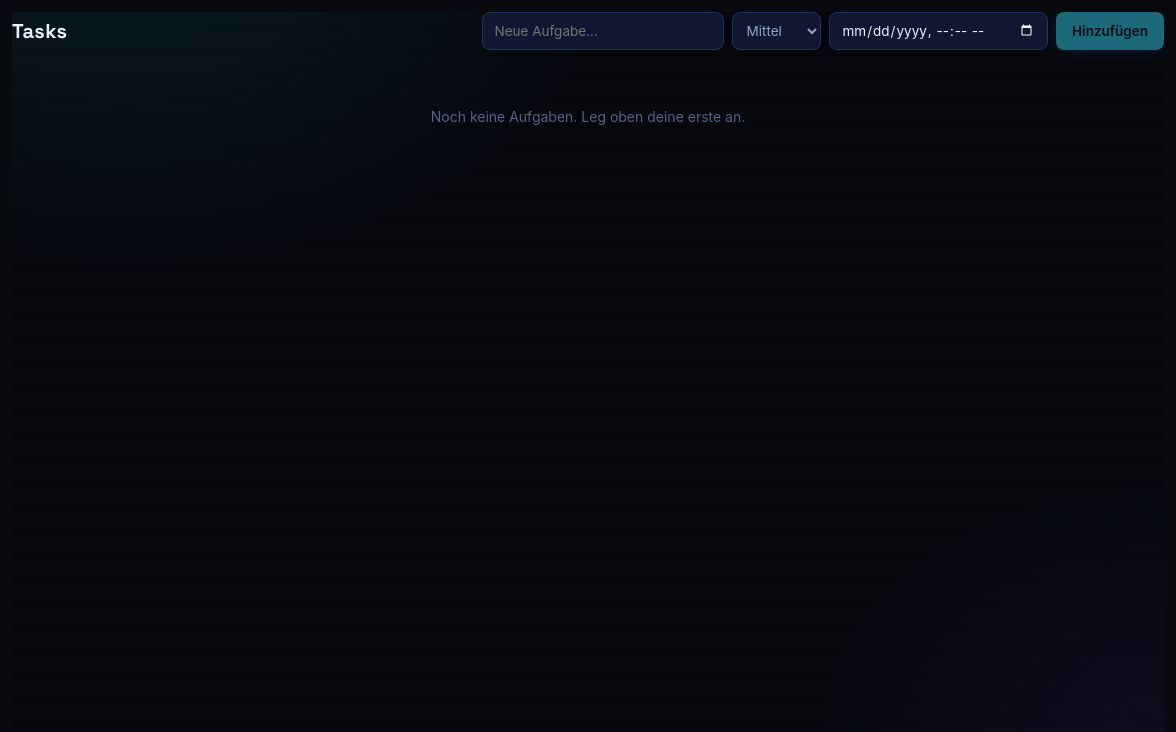
Test: TasksView › creates a new task
Type "Neue Aufgabe" into the field with placeholder "Neue Aufgabe..." at x=602, y=31, box [482,12,724,50]
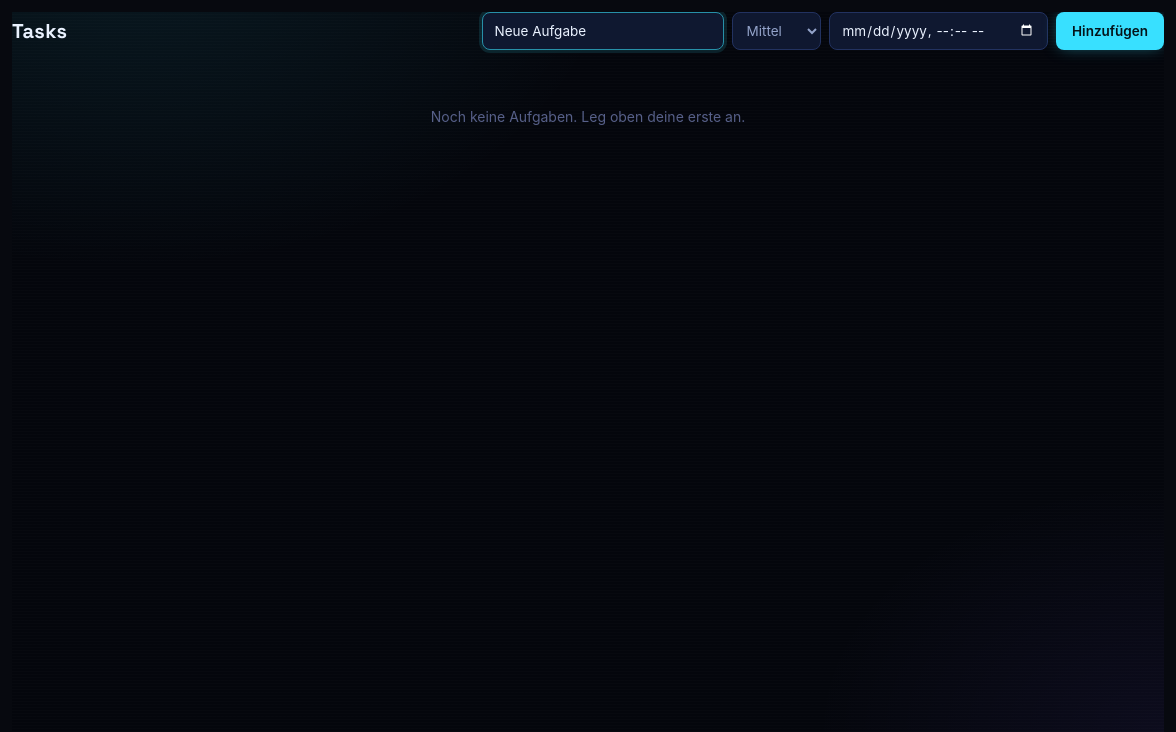
Click the button "Hinzufügen" at x=1110, y=31, box [1056,12,1164,50]
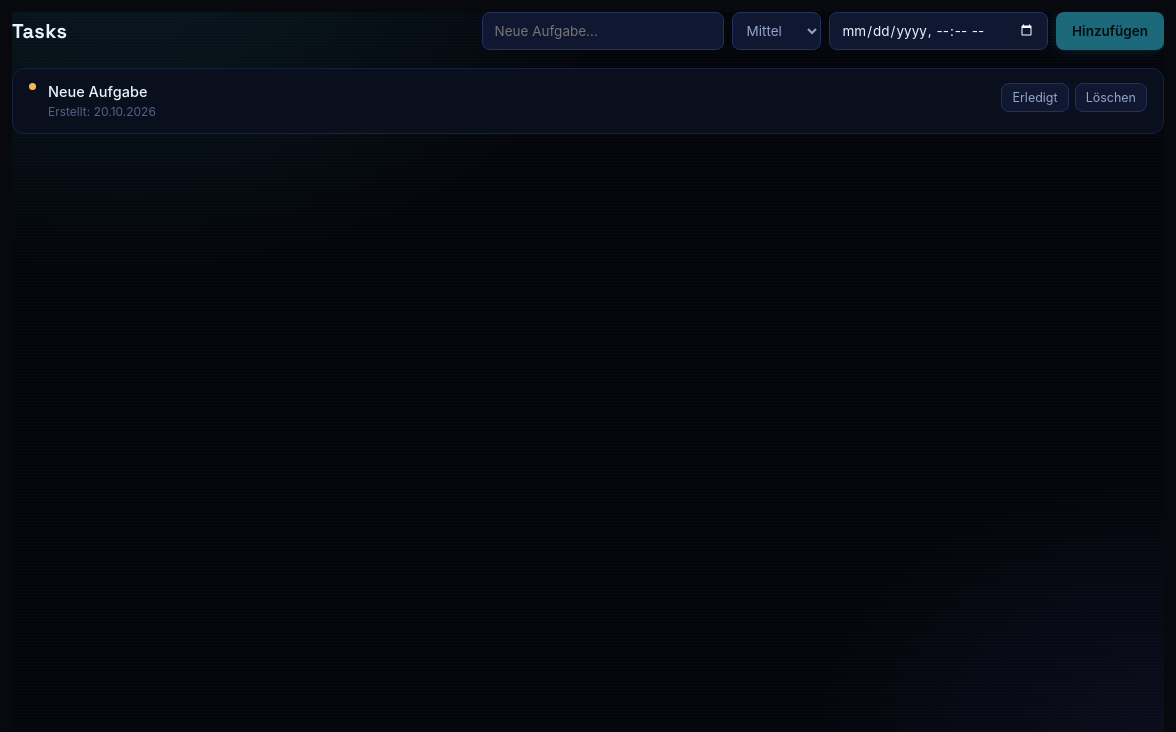
Expected: the text "Neue Aufgabe" is shown, [48,83,147,100]
Expected: the field with placeholder "Neue Aufgabe..." is empty, [482,12,724,50]
